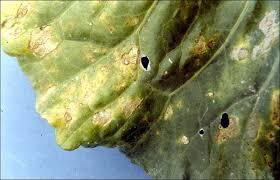Bok-Choy-Diseased: (36, 8, 280, 164)
